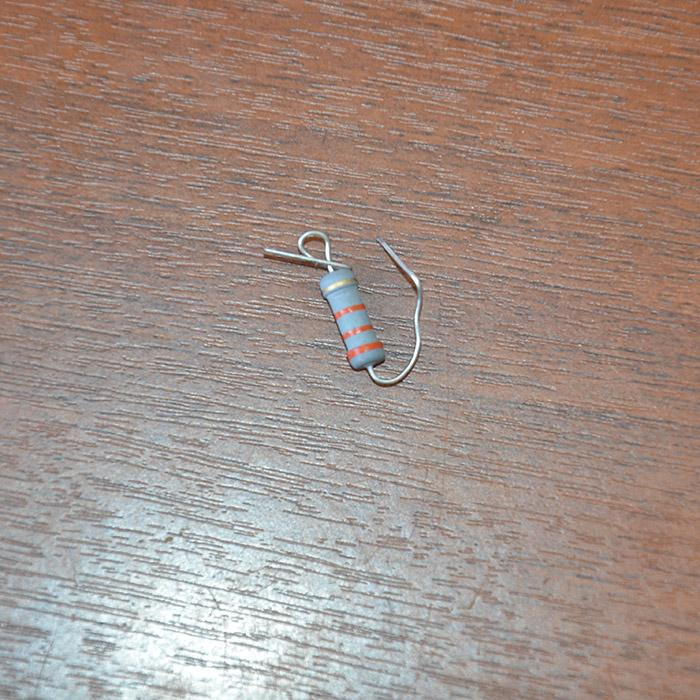resistor: (318, 266, 383, 370)
